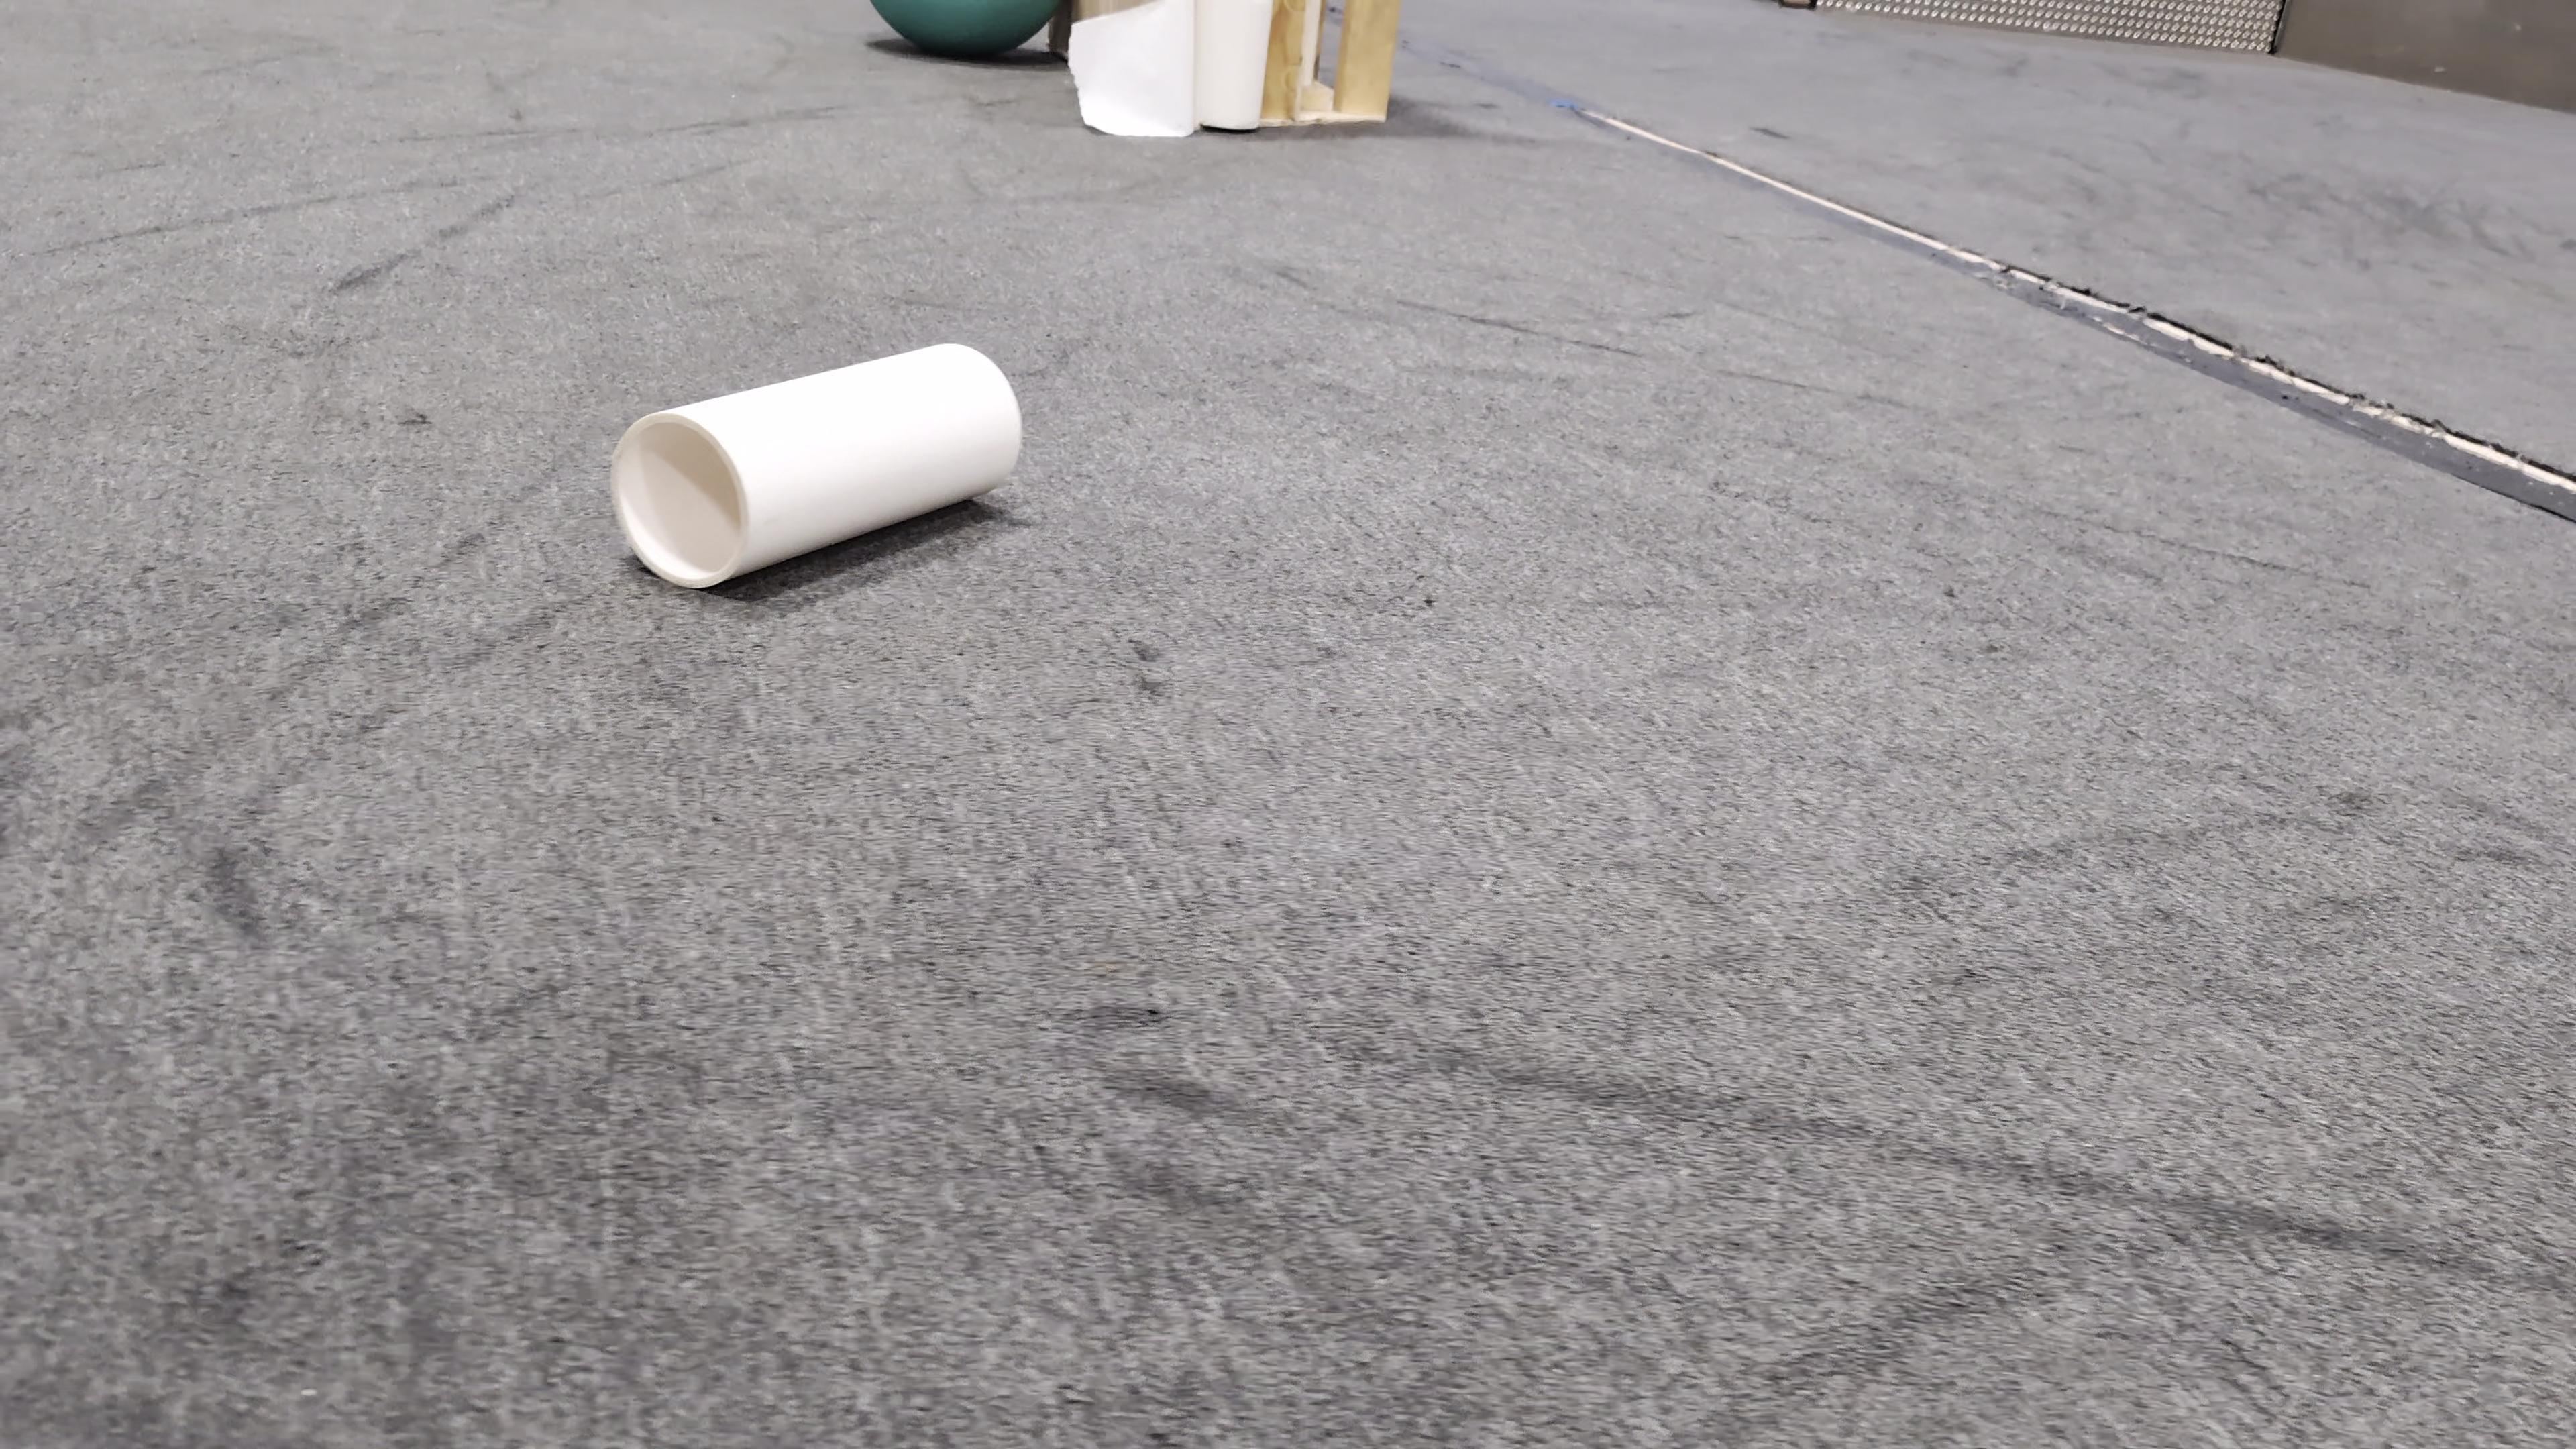coral: (610, 343, 1023, 591)
